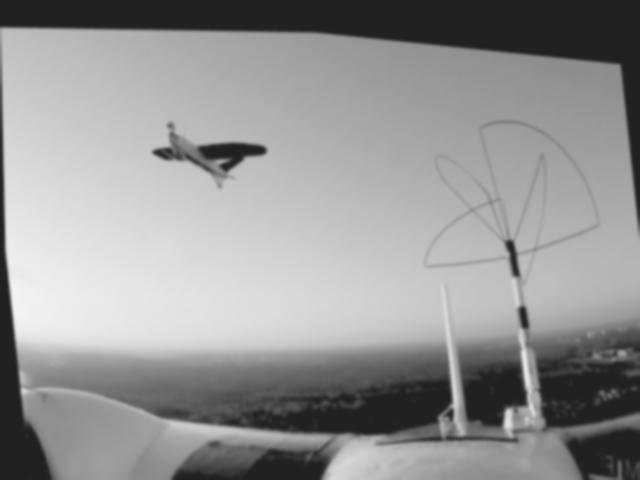hedef: (131, 100, 281, 198)
